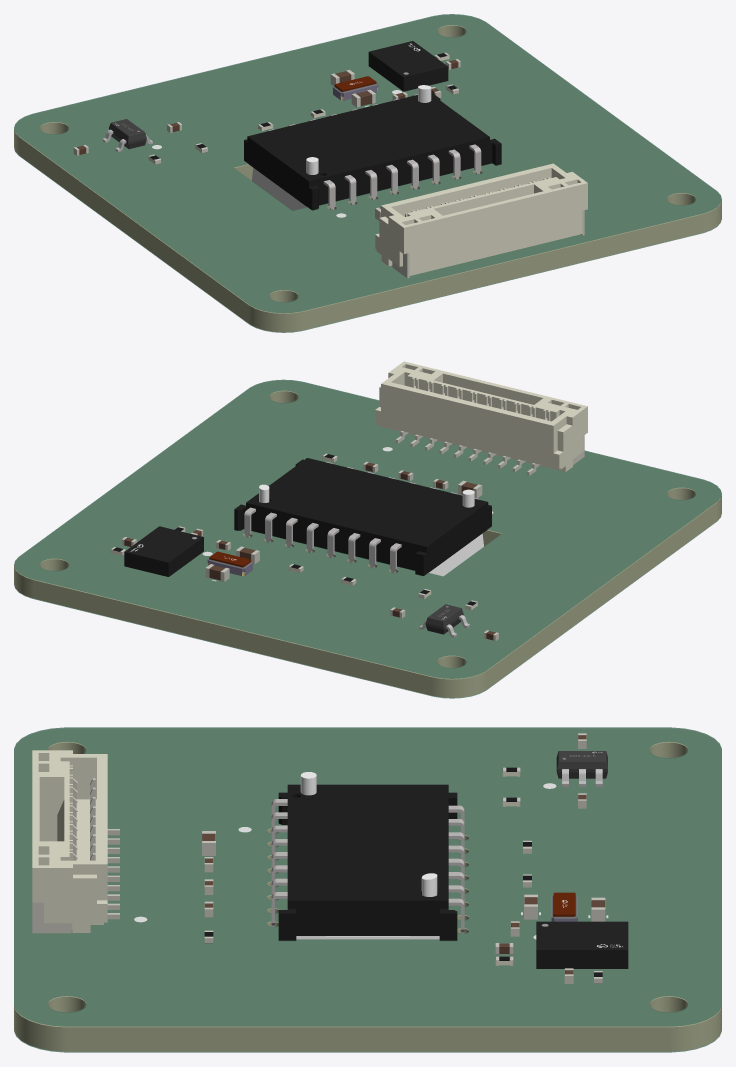
Rendered from BugBot_Odometry_Board.glb.
3 views of the same model, one above another, from view 1: azimuth 30°, elevation 25°; view 2: azimuth 150°, elevation 25°; view 3: azimuth 270°, elevation 25° (orthographic). The views are drawn at different scales.
Visible parts, largest first — view 1: =>[0:1:1:26], =>[0:1:1:24], =>0:1:1:21, =>[0:1:1:11], =>[0:1:1:5], Lens:1, =>[0:1:1:13], =>[0:1:1:25], =>[0:1:1:15]; view 2: =>[0:1:1:26], =>[0:1:1:24], =>0:1:1:21, =>[0:1:1:11], =>[0:1:1:5], Lens:1, =>[0:1:1:13], =>[0:1:1:25], =>[0:1:1:15]; view 3: =>[0:1:1:26], =>[0:1:1:24], =>0:1:1:21, =>[0:1:1:11], =>[0:1:1:5], =>[0:1:1:13], =>[0:1:1:25], Lens:1, =>[0:1:1:15].
Boxes of the visible parts, x1=… form: =>[0:1:1:26]: x1=14, y1=15, x2=721, y2=332; =>[0:1:1:24]: x1=14, y1=14, x2=721, y2=313; =>0:1:1:21: x1=244, y1=94, x2=501, y2=210; =>[0:1:1:11]: x1=375, y1=163, x2=587, y2=278; =>[0:1:1:5]: x1=368, y1=41, x2=448, y2=91; Lens:1: x1=252, y1=85, x2=431, y2=210; =>[0:1:1:13]: x1=102, y1=119, x2=152, y2=152; =>[0:1:1:25]: x1=14, y1=148, x2=721, y2=332; =>[0:1:1:15]: x1=332, y1=76, x2=378, y2=100; =>[0:1:1:26]: x1=14, y1=381, x2=721, y2=697; =>[0:1:1:24]: x1=14, y1=379, x2=721, y2=678; =>0:1:1:21: x1=234, y1=458, x2=491, y2=575; =>[0:1:1:11]: x1=375, y1=361, x2=587, y2=475; =>[0:1:1:5]: x1=124, y1=526, x2=203, y2=576; Lens:1: x1=259, y1=484, x2=483, y2=576; =>[0:1:1:13]: x1=419, y1=604, x2=469, y2=637; =>[0:1:1:25]: x1=14, y1=513, x2=721, y2=698; =>[0:1:1:15]: x1=207, y1=551, x2=253, y2=575; =>[0:1:1:26]: x1=14, y1=729, x2=721, y2=1051; =>[0:1:1:24]: x1=14, y1=727, x2=721, y2=1026; =>0:1:1:21: x1=278, y1=784, x2=457, y2=940; =>[0:1:1:11]: x1=32, y1=750, x2=119, y2=933; =>[0:1:1:5]: x1=536, y1=921, x2=628, y2=968; =>[0:1:1:13]: x1=556, y1=751, x2=607, y2=786; =>[0:1:1:25]: x1=14, y1=1030, x2=721, y2=1052; Lens:1: x1=296, y1=772, x2=439, y2=939; =>[0:1:1:15]: x1=551, y1=892, x2=577, y2=921.
Size of the model in its own units: 0.04 by 0.00946 by 0.04.
